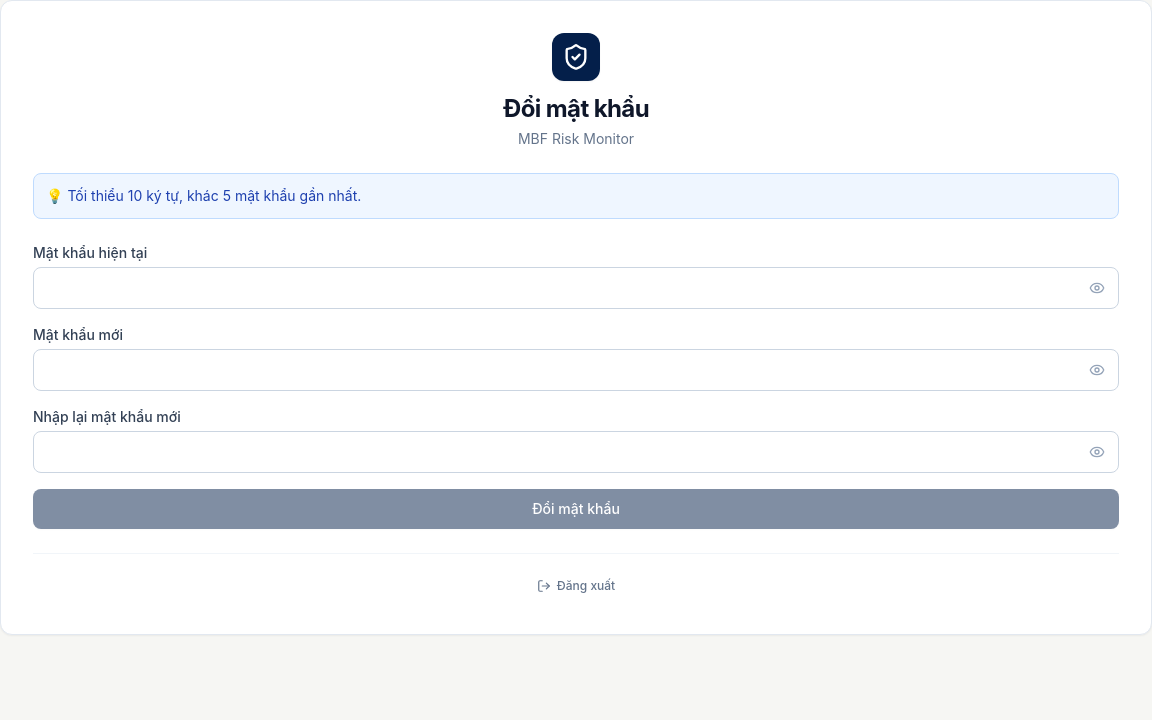
Test: ChangePasswordView Component › attaches server fieldErrors to corresponding inputs
The width and height of the screenshot is (1152, 720).
Type "WrongOld" into the password field labelled "Mật khẩu hiện tại" at (576, 288), box [33,267,1119,309]
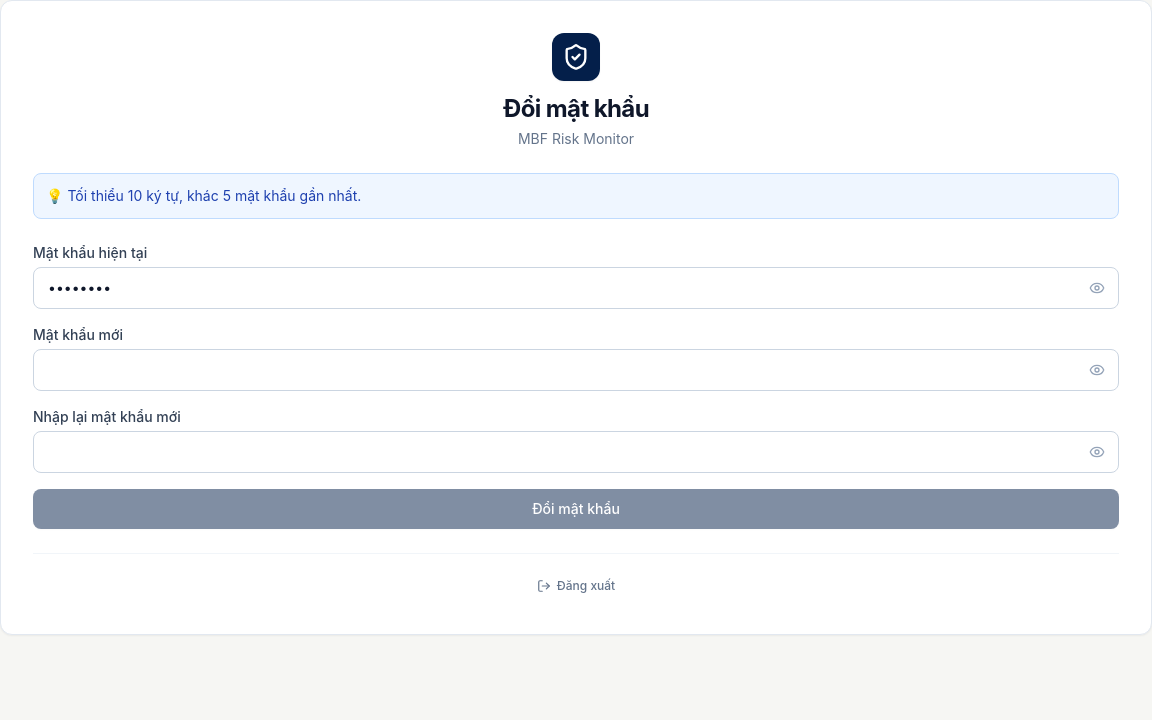
Type "SameOldPass1" into the password field labelled "Mật khẩu mới" at (576, 370), box [33,349,1119,391]
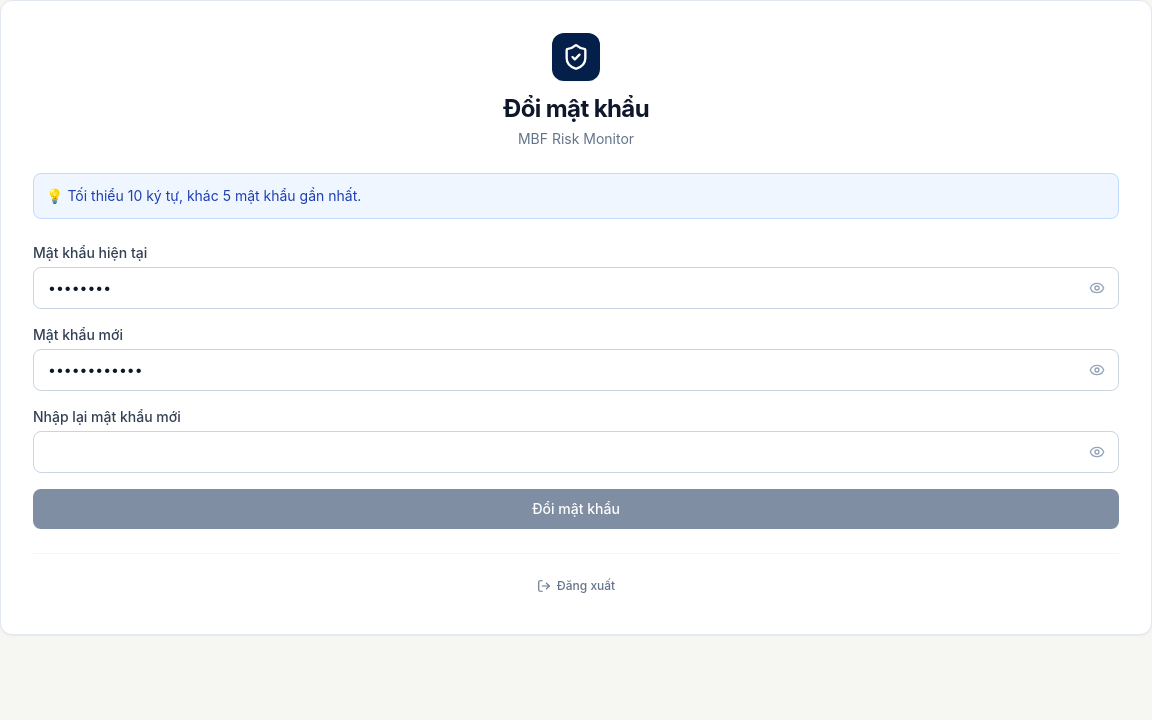
Type "SameOldPass1" into the password field labelled "Nhập lại mật khẩu mới" at (576, 452), box [33,431,1119,473]
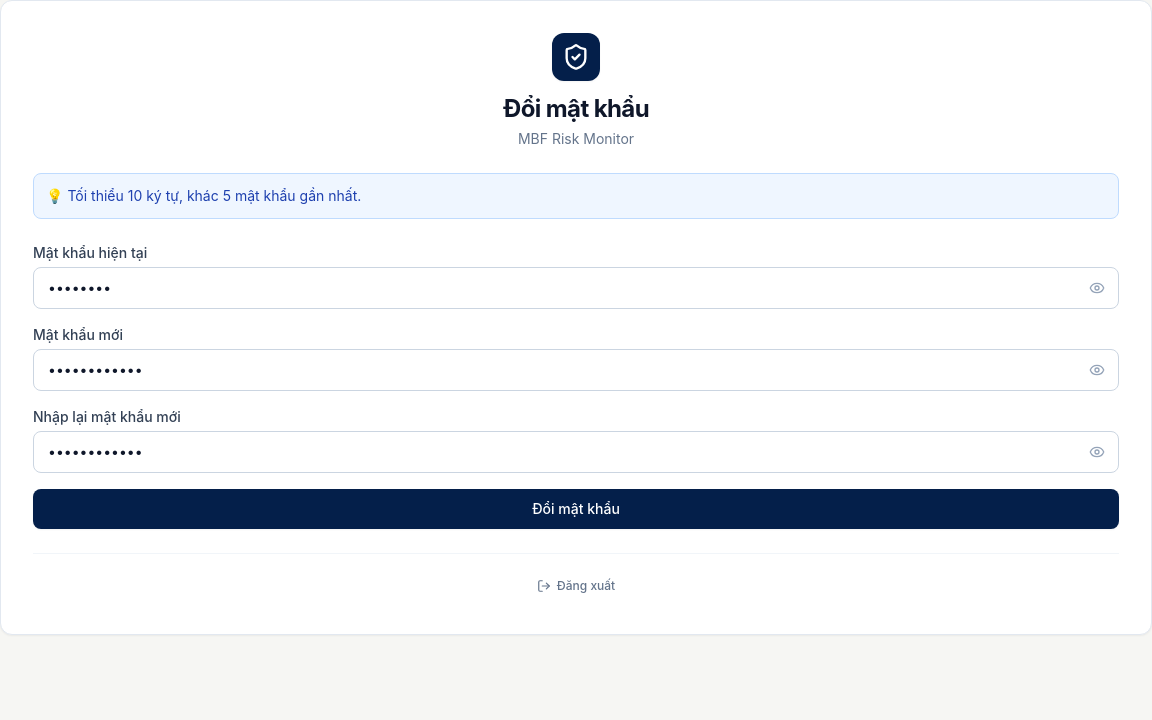
Click the button "Đổi mật khẩu" at (576, 509), box [33,489,1119,529]
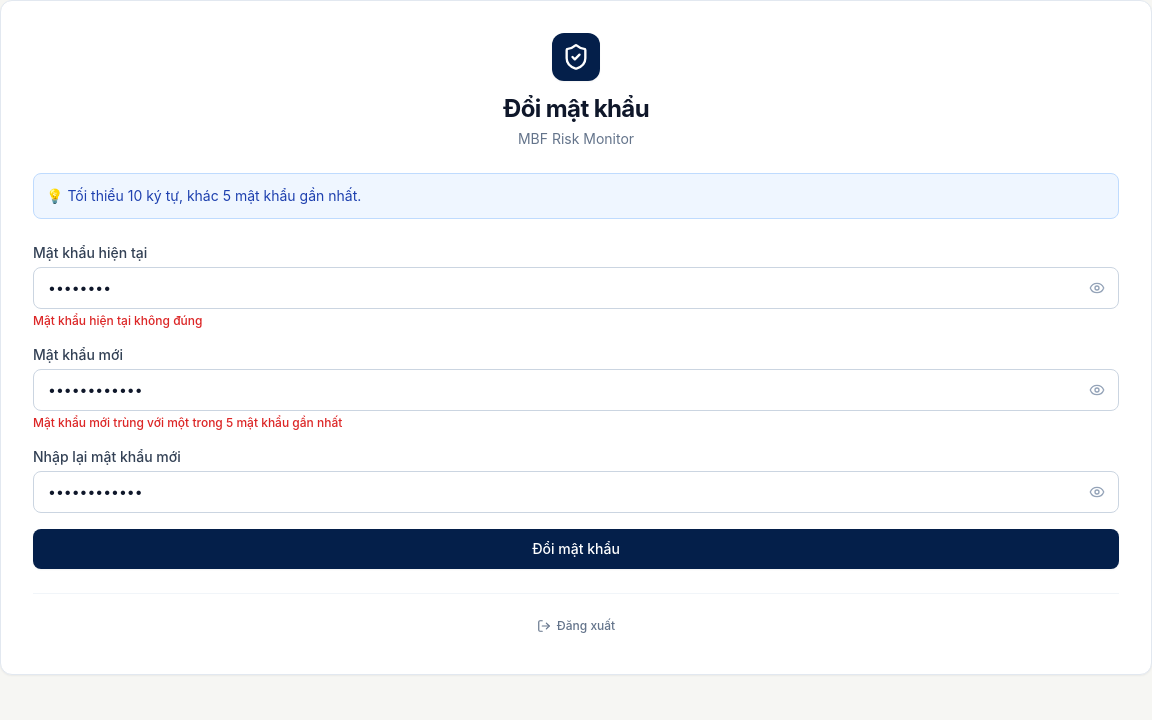
Expected: the text "Mật khẩu hiện tại không đúng" is shown, [33,313,202,328]
Expected: the text "Mật khẩu mới trùng với một trong 5 mật khẩu gần nhất" is shown, [33,415,342,430]
